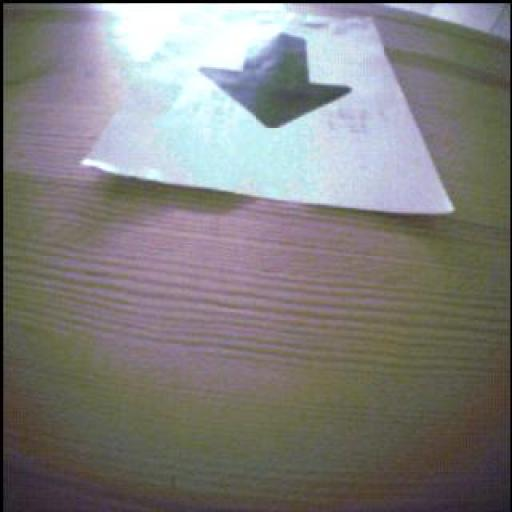arrow: (201, 35, 351, 129)
